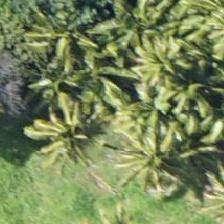coconut_tree: (38, 91, 128, 181), (135, 105, 223, 195), (137, 50, 223, 140), (138, 15, 223, 105), (18, 0, 108, 74), (105, 0, 195, 63), (176, 0, 223, 52)
